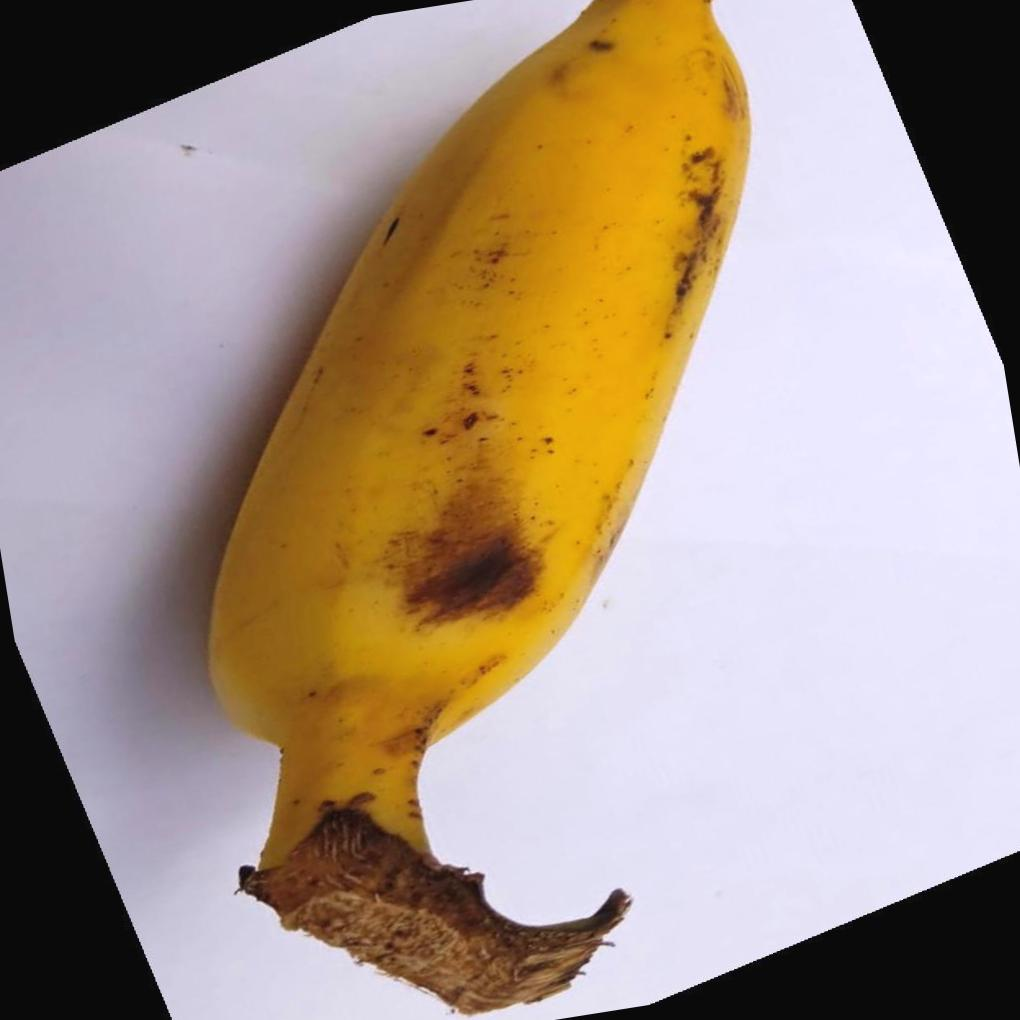Banana Ripe: (110, 0, 959, 1020)
